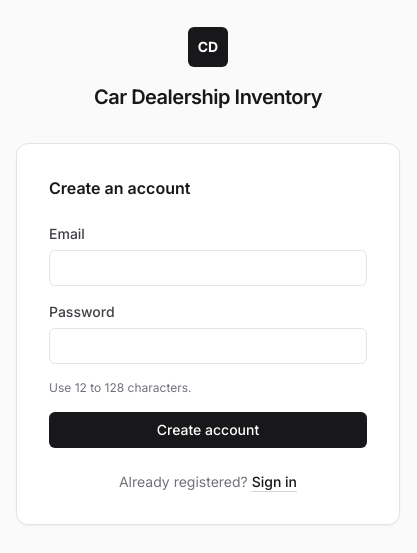
Test case: Registration › shows field errors from the API next to the matching inputs
The image size is (417, 553).
In the field labelled "Email": (208, 268) [49,250,367,286], type "buyer@example.com"
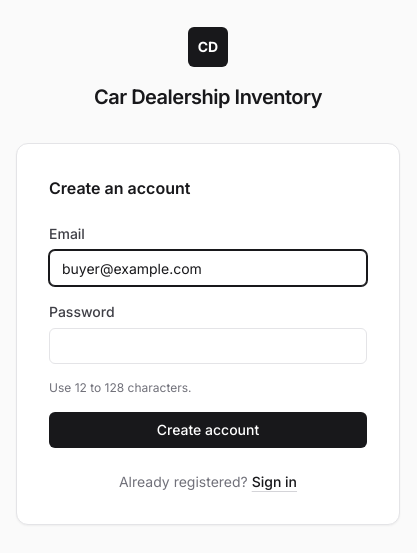
In the password field labelled "Password": (208, 346) [49,328,367,364], type "valid-password"
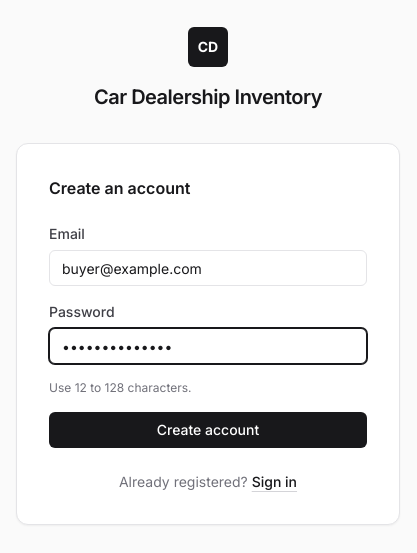
Click the button "Create account": (208, 430) [49,412,367,448]
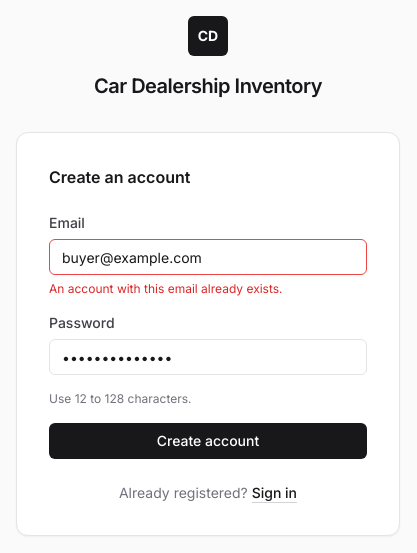
Expected: the text "An account with this email already exists." is shown, [49,281,282,296]
